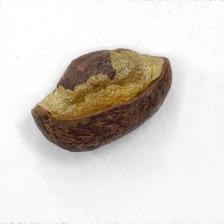NG: (32, 48, 167, 120)
